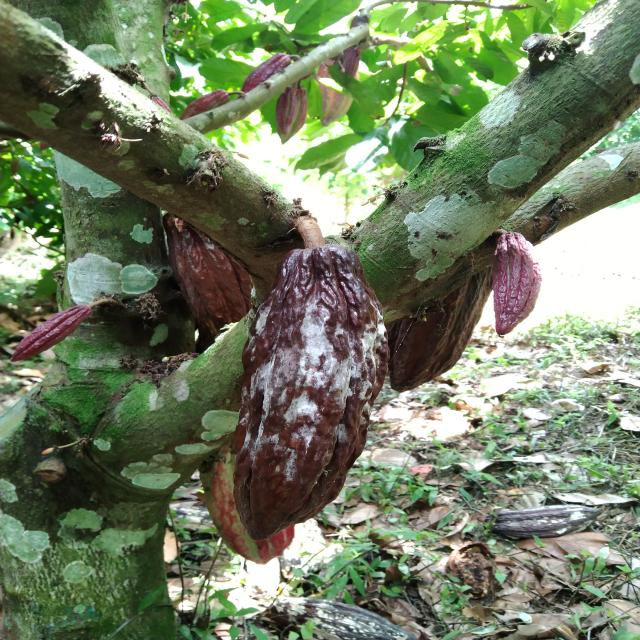Fitoftora: (389, 270, 495, 391), (164, 221, 253, 342)
Monilia: (236, 247, 382, 538)
Sana: (9, 300, 103, 360), (501, 227, 537, 342), (271, 87, 307, 145), (244, 57, 291, 87), (324, 78, 352, 124), (185, 92, 230, 115)
